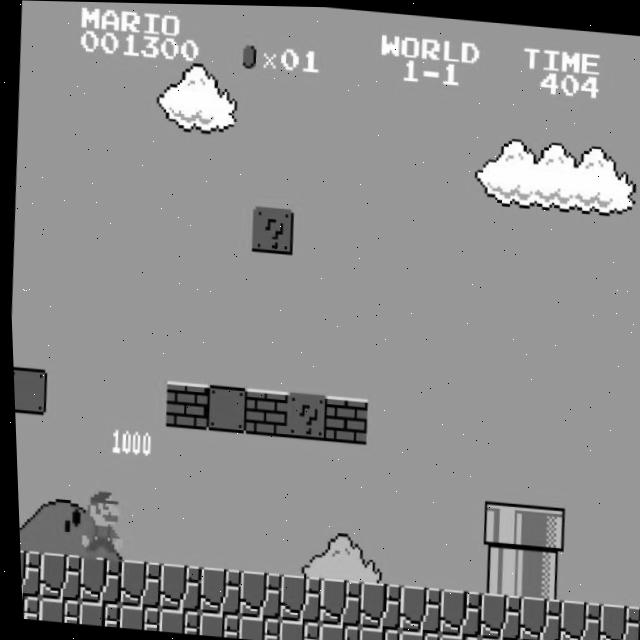1- brick_block: (320, 393, 366, 443), (160, 380, 206, 429), (241, 387, 286, 436)
13- mystery_block: (280, 390, 326, 439), (248, 205, 293, 253)
14- pipe: (475, 544, 520, 594), (515, 547, 560, 597)
15- pipe_head: (516, 502, 562, 552), (477, 499, 522, 548)
17- undestructible_block: (73, 555, 119, 605), (113, 558, 159, 608), (313, 576, 359, 625), (33, 551, 78, 601), (153, 562, 198, 612), (193, 565, 238, 615), (233, 569, 278, 619), (273, 572, 318, 622), (353, 579, 398, 629), (433, 586, 478, 636), (473, 589, 518, 639), (393, 583, 438, 632), (513, 593, 558, 640), (553, 597, 598, 640), (593, 600, 638, 640), (32, 597, 76, 624), (72, 600, 116, 627), (153, 607, 196, 634), (192, 611, 236, 637), (232, 614, 276, 640), (113, 604, 156, 630), (272, 617, 316, 640), (16, 549, 37, 597), (312, 621, 356, 640), (352, 625, 396, 640), (392, 628, 436, 640), (17, 593, 35, 619), (432, 631, 476, 640), (633, 603, 640, 640), (472, 635, 516, 640), (512, 639, 556, 640)
3- empty_block: (201, 383, 246, 433), (11, 366, 45, 415)
